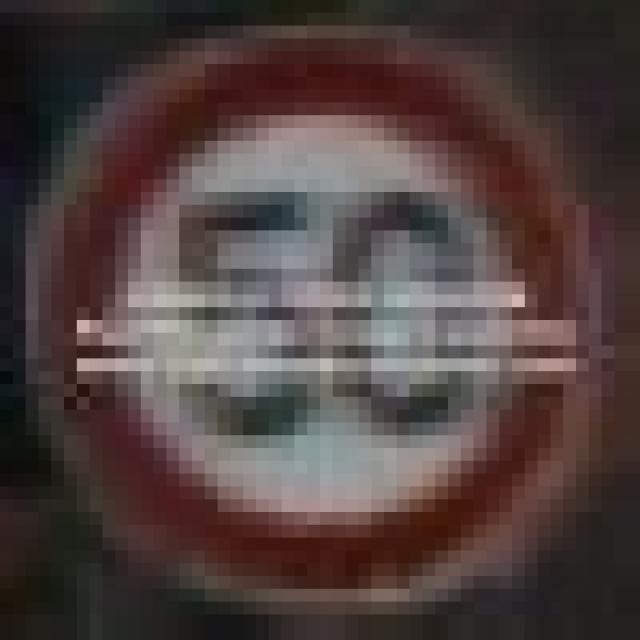SPEED_LIMIT_50: (38, 38, 576, 576)
